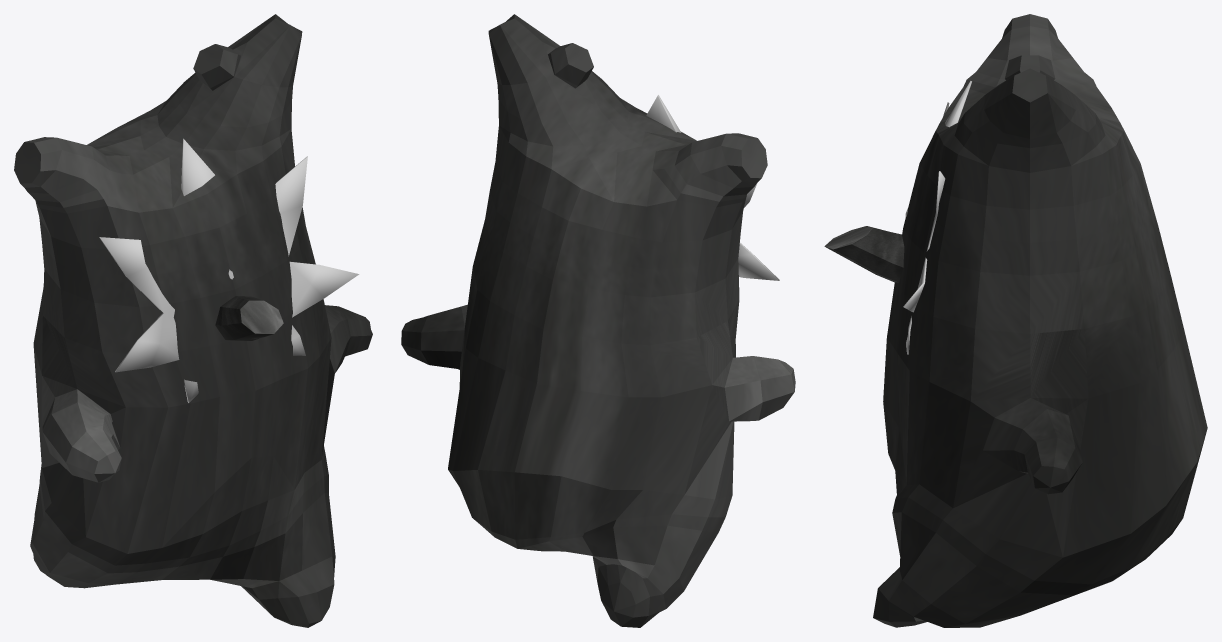
File: frame_0005.obj
3 views of the same model, side by side, from view 1: azimuth 30°, elevation 25°; view 2: azimuth 150°, elevation 25°; view 3: azimuth 270°, elevation 25° (orthographic). The views are drawn at different scales.
Parts seen in each view (by area): view 1: korok, leaf.003_柱体.013, nose.003_柱体.011; view 2: korok, leaf.003_柱体.013; view 3: korok, nose.003_柱体.011, leaf.003_柱体.013.
Part boxes in pixels (box(x1,y1,x2,y2)): korok: box(14, 14, 372, 627); leaf.003_柱体.013: box(99, 138, 359, 402); nose.003_柱体.011: box(215, 296, 283, 341); korok: box(401, 14, 795, 627); leaf.003_柱体.013: box(646, 95, 779, 280); korok: box(873, 14, 1207, 627); nose.003_柱体.011: box(824, 226, 904, 282); leaf.003_柱体.013: box(903, 81, 971, 354).
Bounding box in the file's own units: 1.55 × 2.25 × 1.36.
